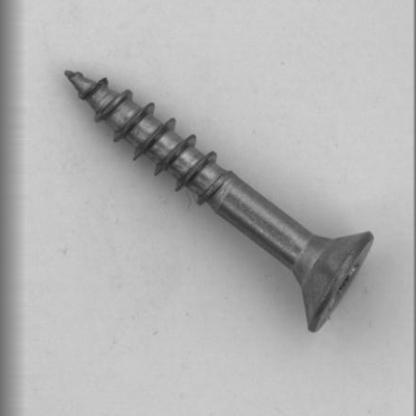metal: (63, 68, 374, 332)
